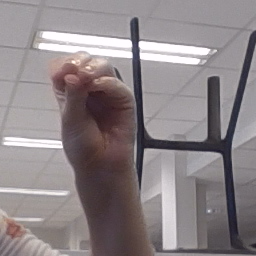M: (48, 50, 143, 166)
